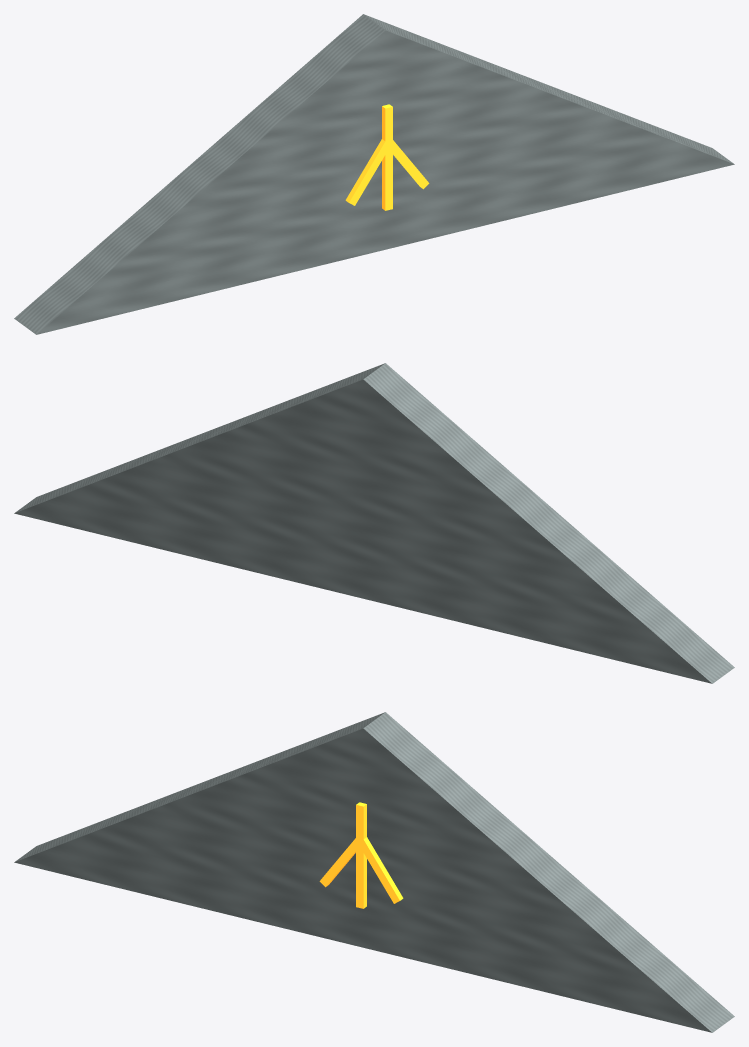
The model's file is dwarven-runeforge-dungeon-dwarven-runeforge-dungeon-ha-c6d446fc__28591.glb.
3 renders of one model, top to bottom at view 1: azimuth 30°, elevation 25°; view 2: azimuth 150°, elevation 25°; view 3: azimuth 330°, elevation 25°, orthographic.
Visible parts, largest first — view 1: dwarven-runeforge-dungeon-hall-roof-end; view 2: dwarven-runeforge-dungeon-hall-roof-end; view 3: dwarven-runeforge-dungeon-hall-roof-end.
Boxes of the visible parts, bbox=[...] form: dwarven-runeforge-dungeon-hall-roof-end: bbox=[14, 14, 734, 334]; dwarven-runeforge-dungeon-hall-roof-end: bbox=[14, 363, 734, 683]; dwarven-runeforge-dungeon-hall-roof-end: bbox=[14, 712, 734, 1032].
Bounding box in the file's own units: 4.5 × 1.35 × 0.289.
2 materials, 1 textured.
